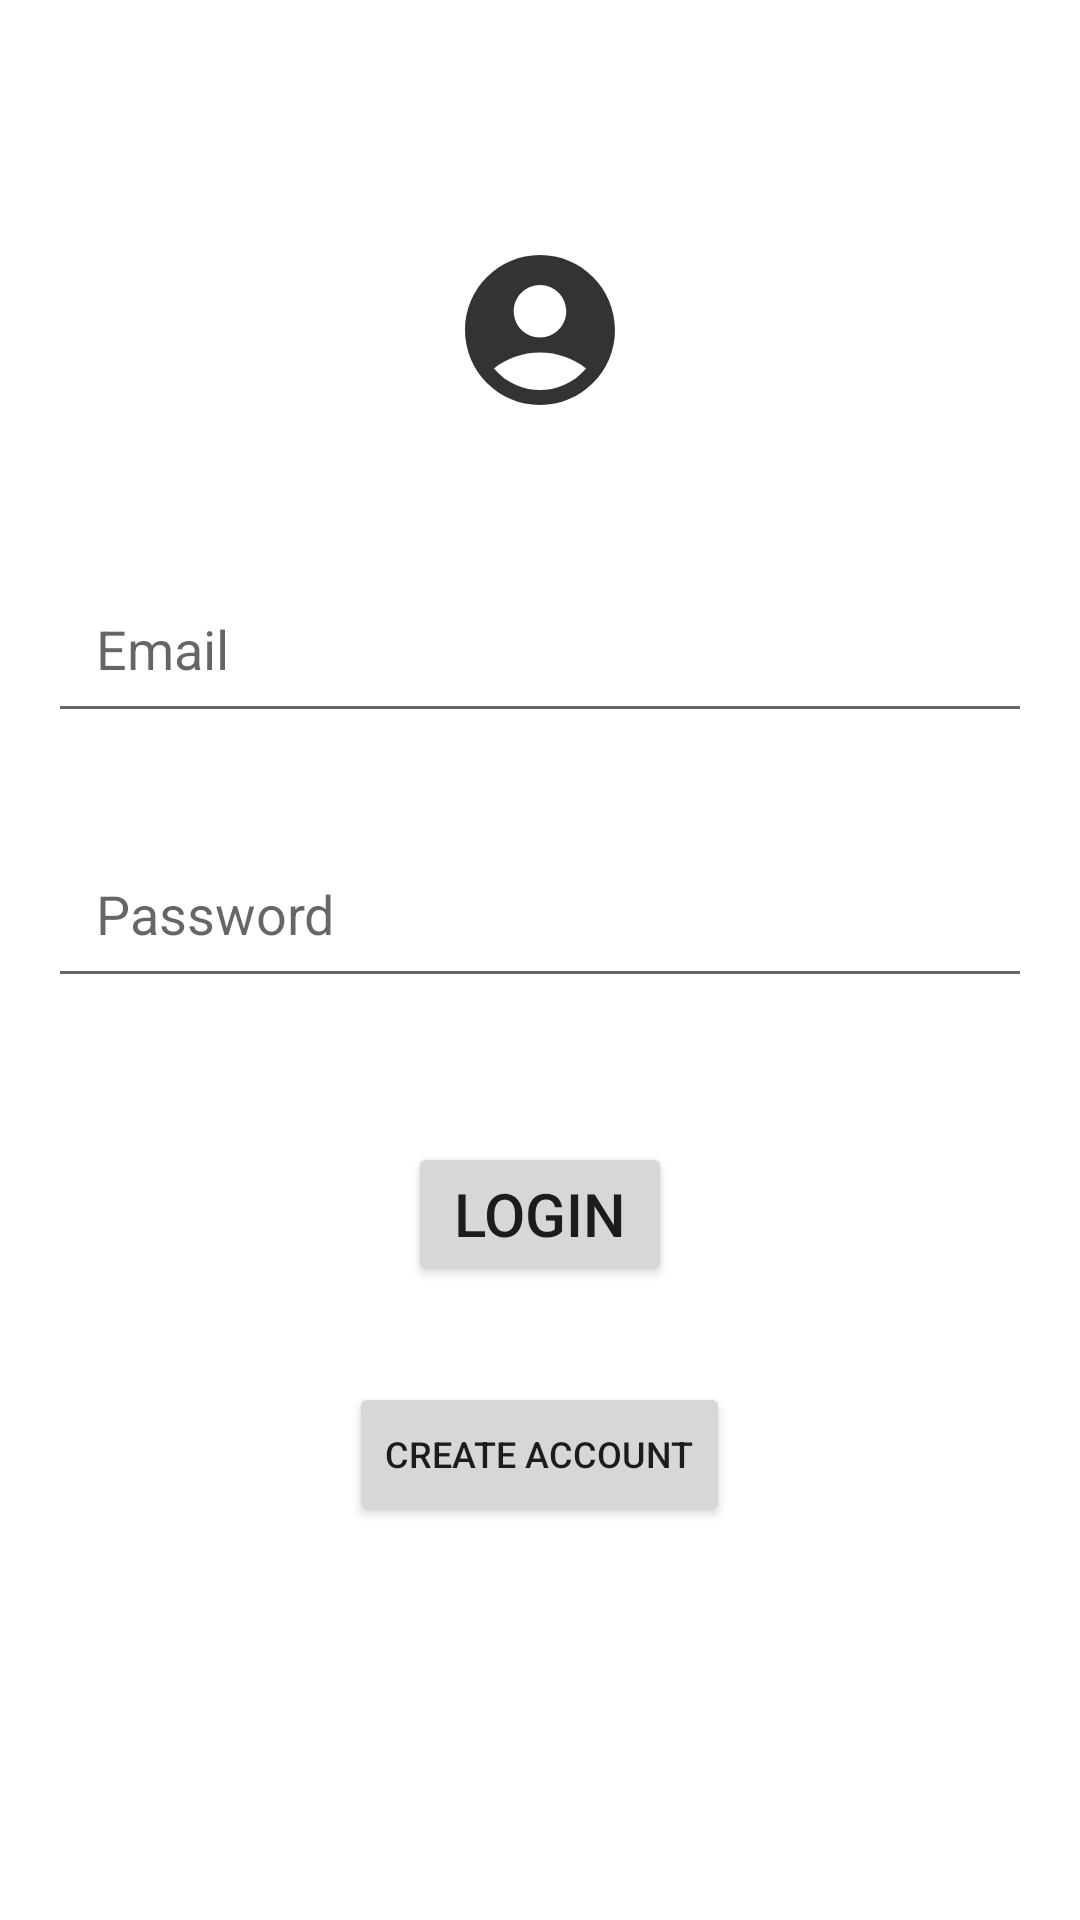

Icons on this 1080*1920 Android screen, each with the point to tap as [x,y]:
account: [540,330]
